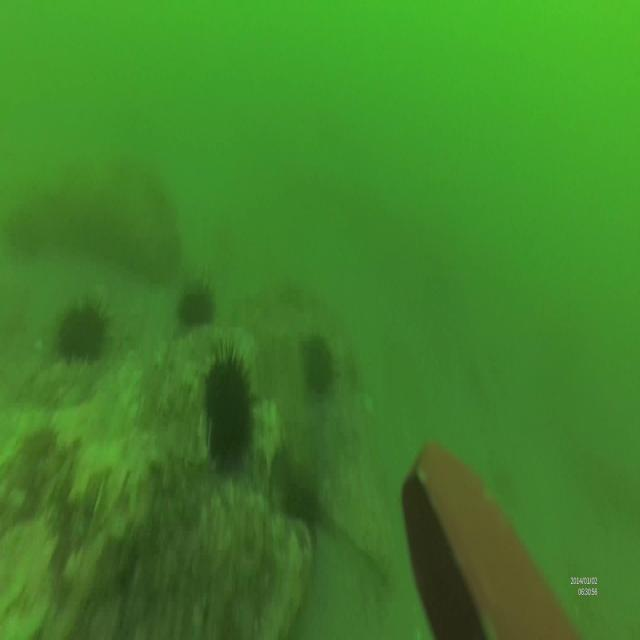echinus: (203, 338, 256, 478), (57, 294, 109, 362), (305, 331, 336, 398), (179, 280, 214, 327)
